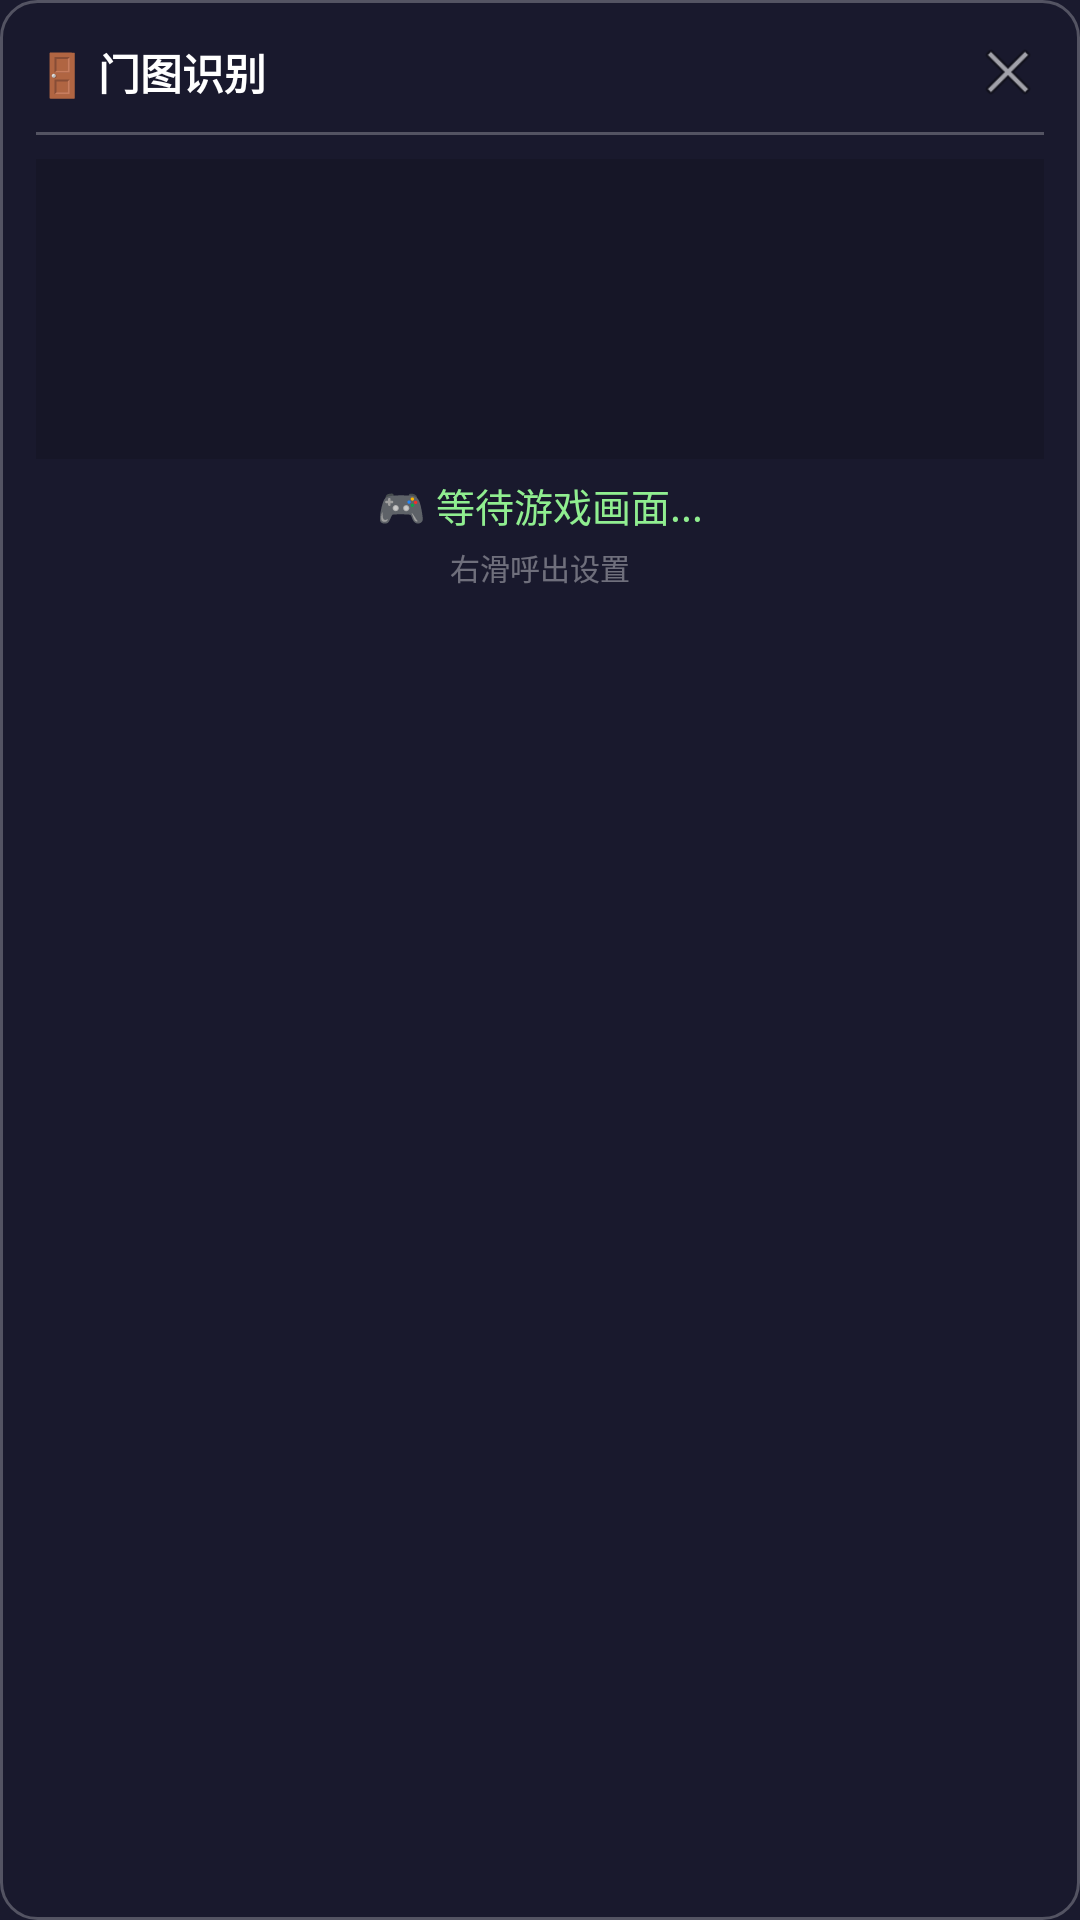

Point at icon controls on the screen. Image size 1080w x 1920h, points as point (x, y).
关闭: point (1008, 72)
